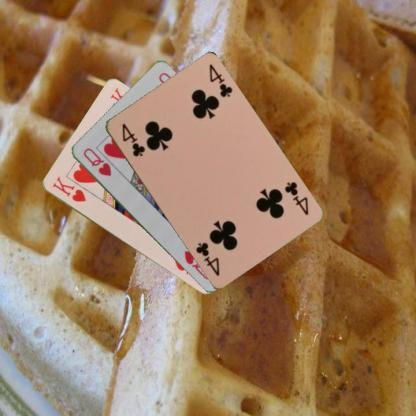4c: (281, 178, 310, 216), (118, 120, 146, 158)
Kh: (49, 174, 87, 204)
Qh: (80, 145, 112, 178)
